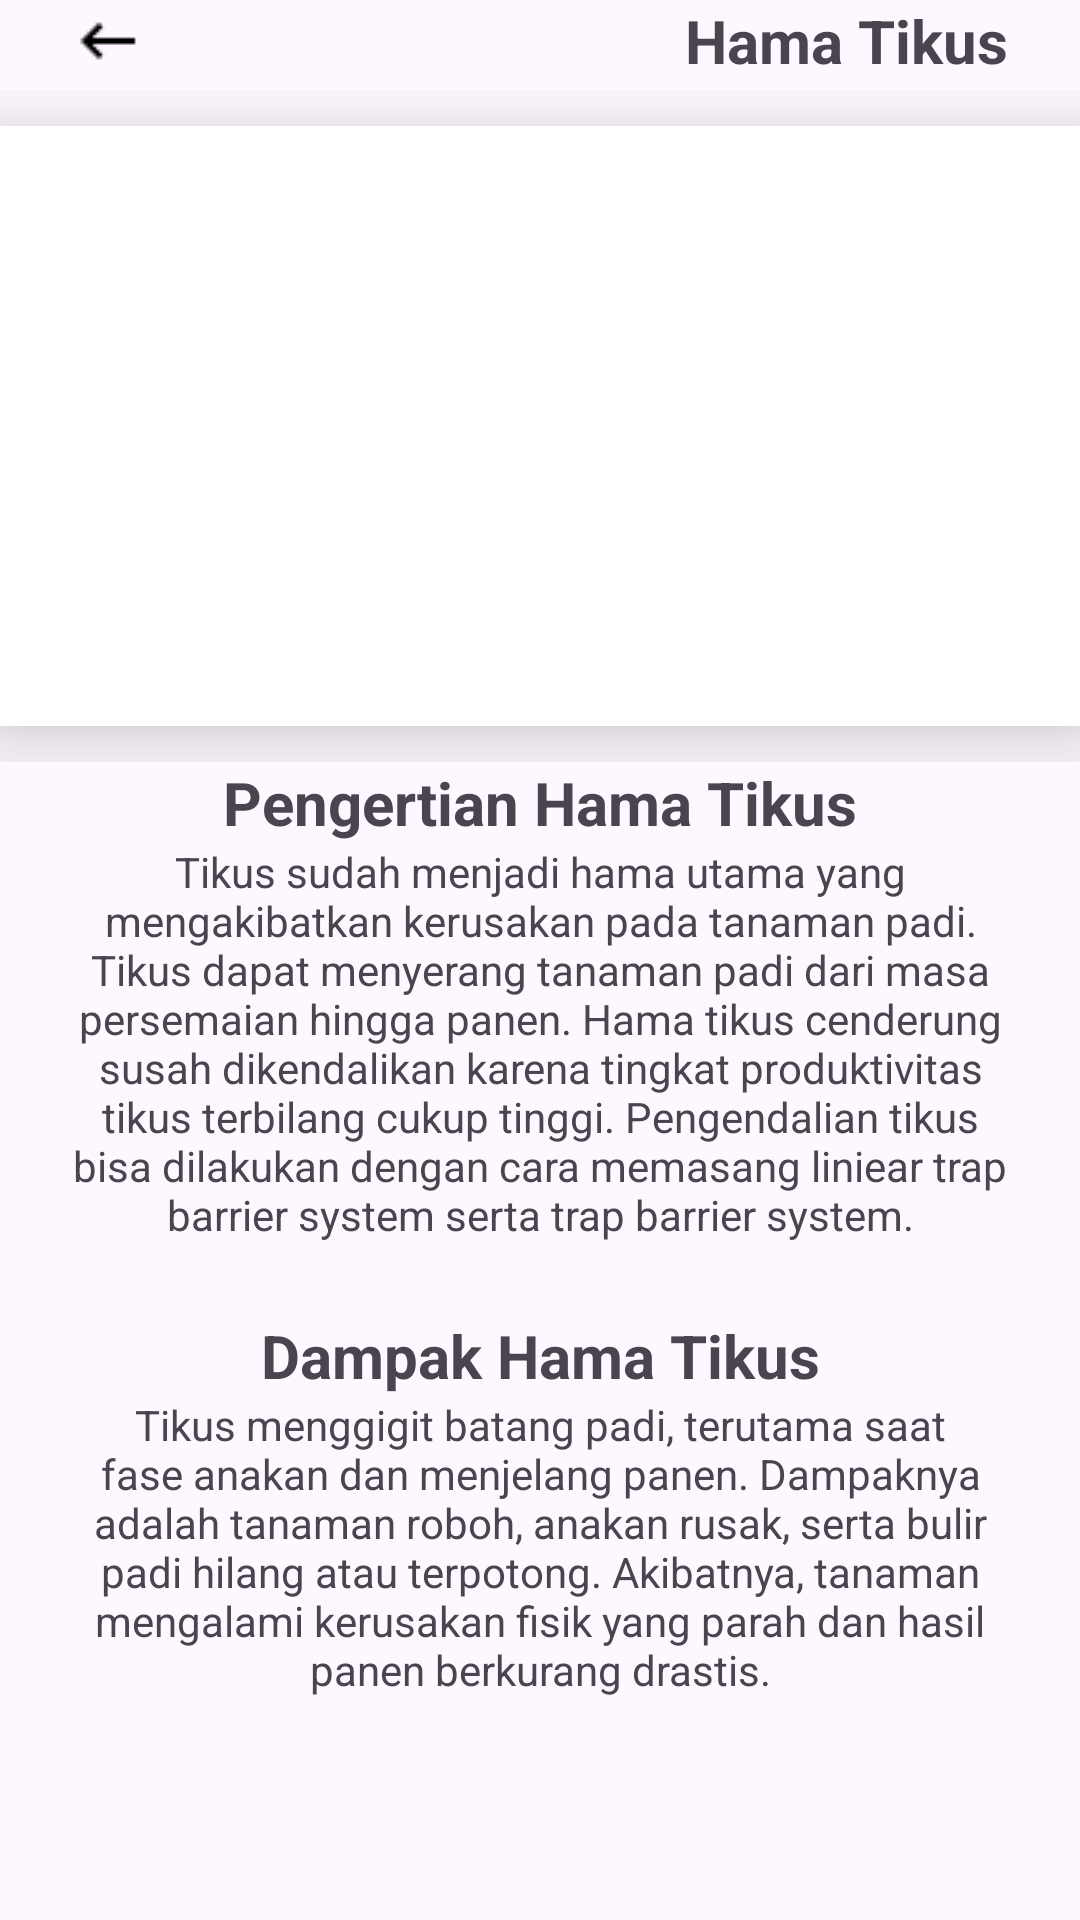

Where icons sit on this 1080px×1920px app screen, as (x1, y1, x2, y2):
keyboard backspace: (80, 22, 136, 60)
